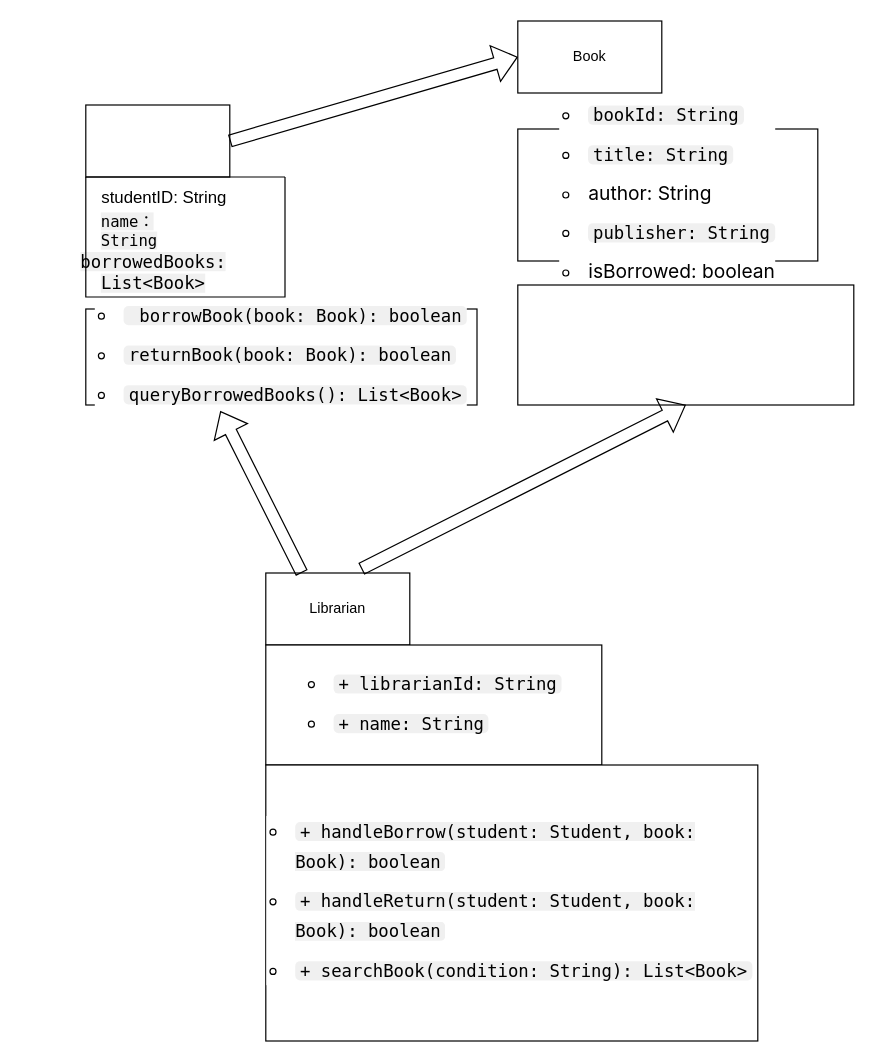
Image size: 875x1062. Some labels were removed from this diagram. The shapes that lost their labels are listed below. From the top down, each one's centre as x and y in pixels, then its label:
the point at 157,140: Student
the point at 685,344: getBookInfo(): String
